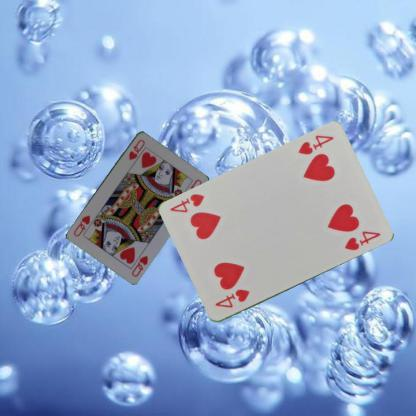4h: (295, 132, 335, 157), (212, 286, 251, 310)
Qh: (129, 253, 149, 278), (126, 137, 146, 161)
